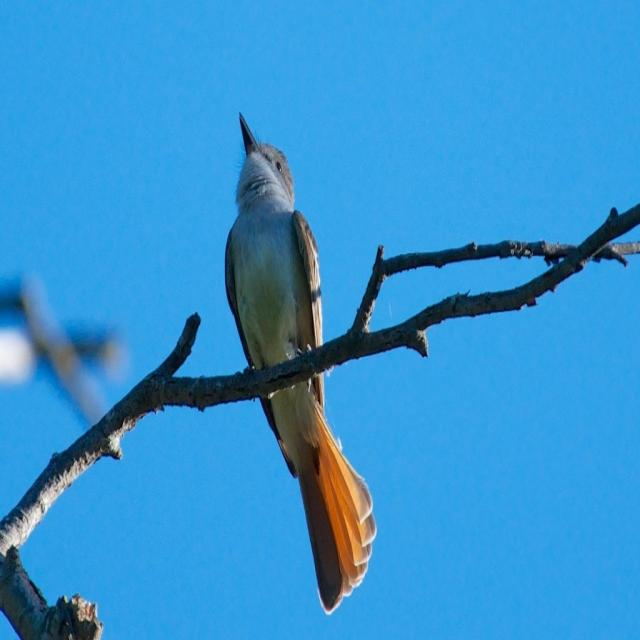bird: (221, 101, 386, 617)
